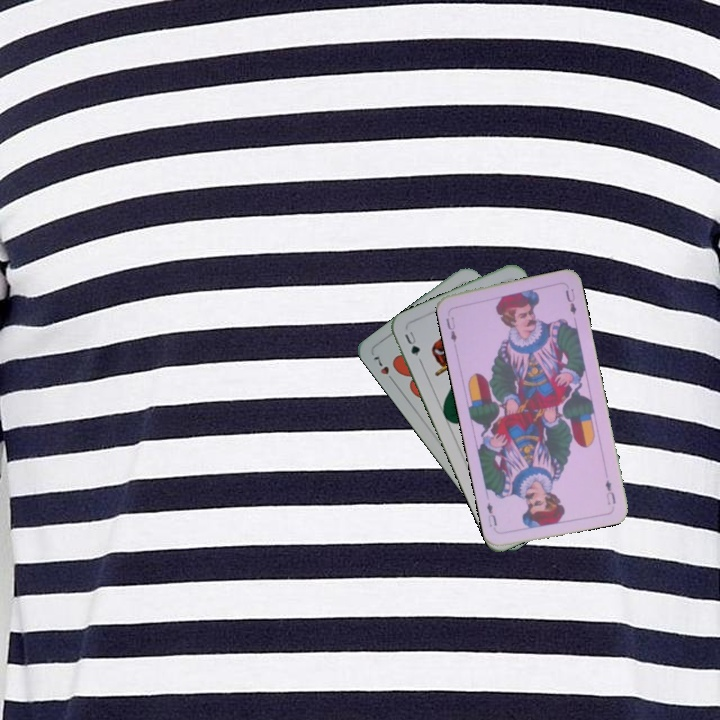EU: (442, 313, 459, 345), (601, 476, 618, 507)
GU: (400, 327, 424, 365)
H7: (369, 352, 398, 386)
